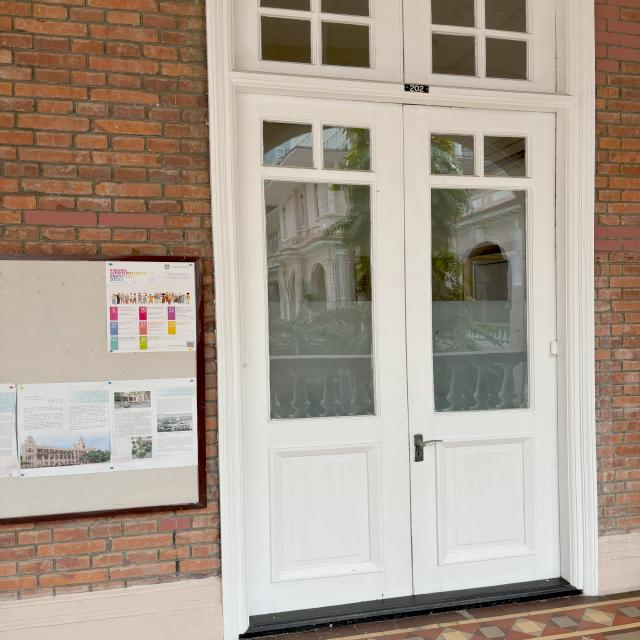MB202_roomNum: (399, 80, 433, 97)
